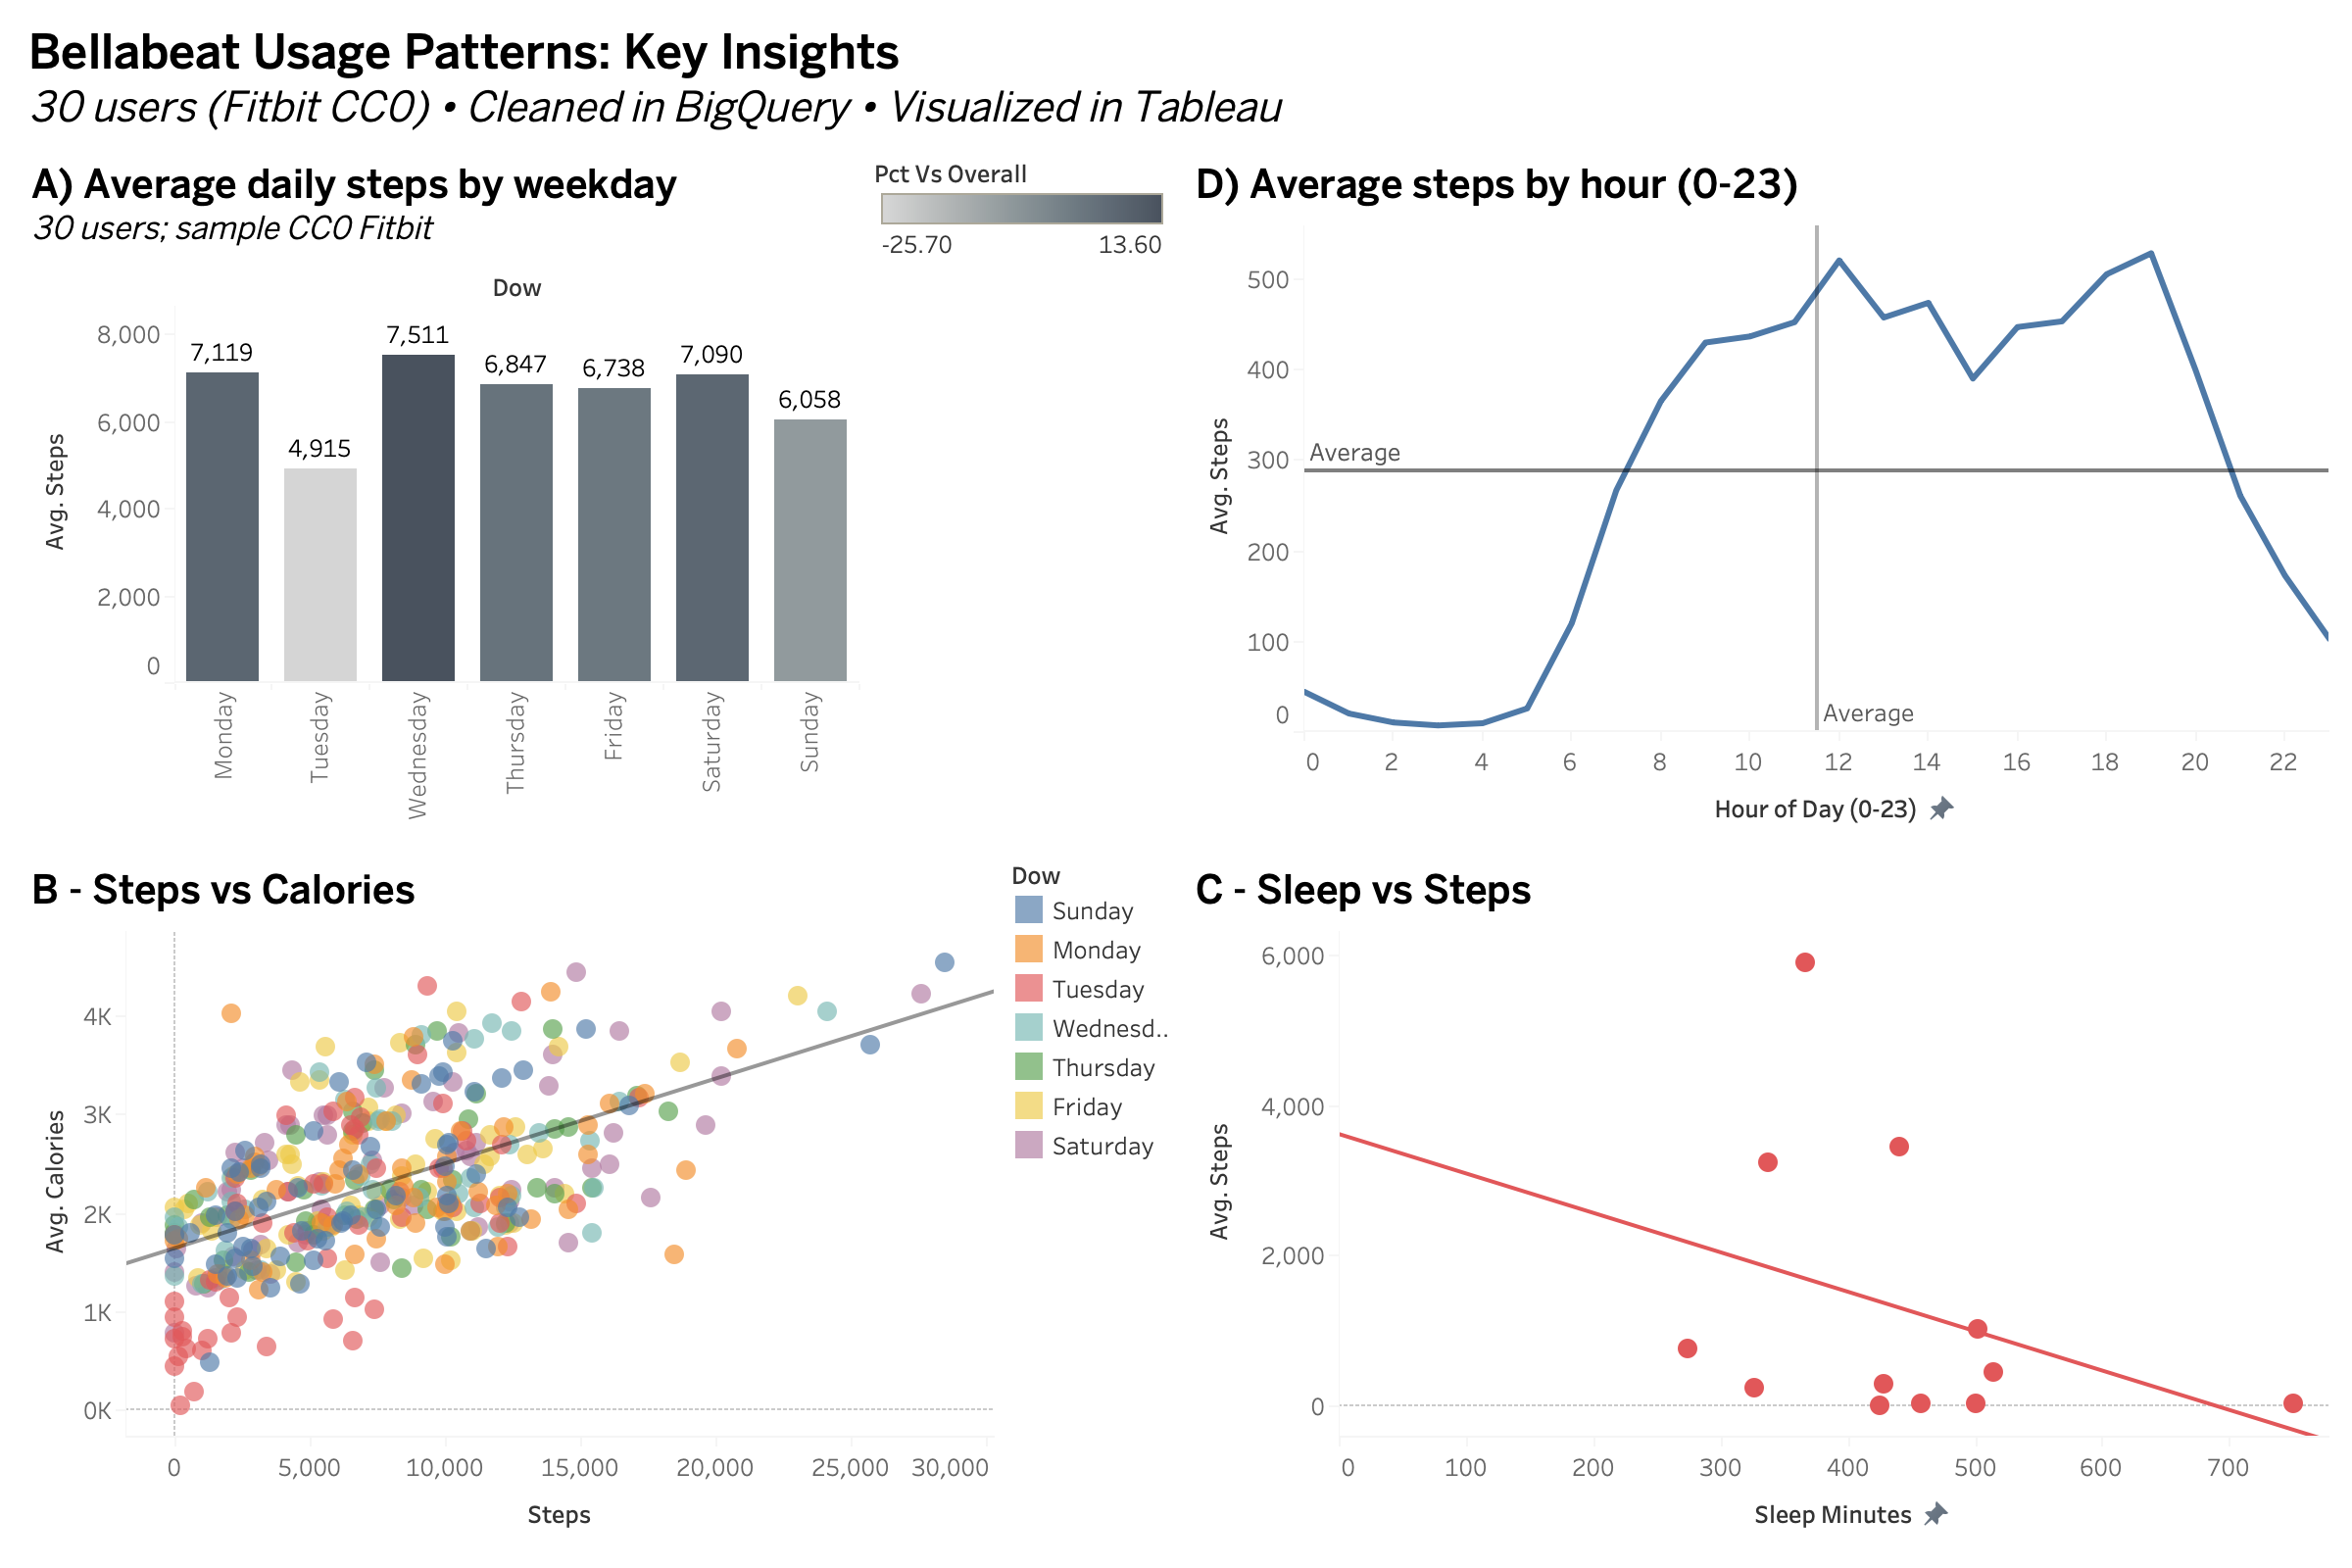

What the dashboard file says about the page in this screenshot:
{"tool":"tableau","page":{"name":"Dashboard 1","canvas":[1200,800],"ordinal":0},"visuals":[{"type":"title","box":[8,8,1184,64]},{"type":"worksheet","title":"A – Steps by Weekday","mark":"Automatic","rows":["avg_steps"],"cols":["dow"],"box":[8,72,434,360]},{"type":"legend","title":"A – Steps by Weekday","param":"[federated.0dokmfu1vd07tg16hluu20zcbl9z].[sum:pct_vs_overall:qk]","box":[442,72,160,65]},{"type":"worksheet","title":"D – Hourly Steps","mark":"Line","rows":["avg_hourly_steps"],"cols":["hr"],"box":[602,72,590,360]},{"type":"worksheet","title":"B – Steps vs Calories","mark":"Circle","rows":["Calories"],"cols":["TotalSteps"],"box":[8,432,503,360]},{"type":"legend","title":"B – Steps vs Calories","param":"[federated.12f3evu0hr20ni15lzdkr0c8ybzd].[none:dow:nk]","box":[511,432,91,360]},{"type":"worksheet","title":"C – Sleep vs Steps","mark":"Circle","rows":["TotalSteps"],"cols":["total_sleep_mins"],"box":[602,432,590,360]}]}

Visuals, with their boxes in screenshot pixels (x1, y1, x2, y2), scaled from the page's 1200x800 canvas onto the 2352x1568 screenshot:
title: 16/16/2336/141
"A – Steps by Weekday" worksheet: 16/141/866/847
"A – Steps by Weekday" legend: 866/141/1180/269
"D – Hourly Steps" worksheet (Line marks): 1180/141/2336/847
"B – Steps vs Calories" worksheet (Circle marks): 16/847/1002/1552
"B – Steps vs Calories" legend: 1002/847/1180/1552
"C – Sleep vs Steps" worksheet (Circle marks): 1180/847/2336/1552
